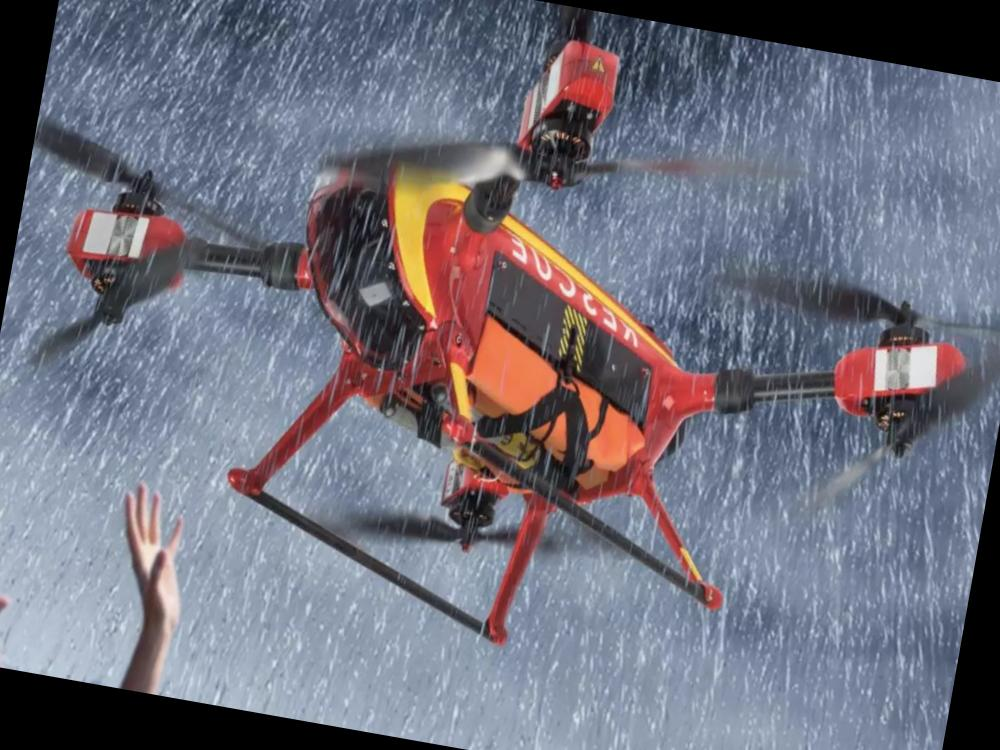drone: (0, 0, 1000, 563)
